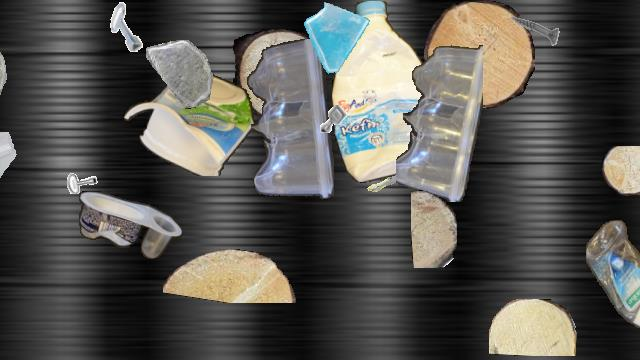glass: (300, 1, 374, 75), (146, 40, 214, 108), (0, 132, 22, 214), (0, 41, 8, 97)
metal: (350, 152, 408, 210), (502, 1, 560, 59), (102, 1, 154, 53), (57, 149, 101, 193), (312, 98, 354, 140)
plastic: (332, 1, 434, 183), (244, 39, 334, 203), (124, 70, 254, 176), (396, 41, 482, 201), (79, 191, 181, 259), (586, 220, 640, 332)
wood: (424, 1, 534, 109), (230, 29, 326, 119), (163, 249, 299, 303), (489, 299, 577, 355), (411, 190, 457, 268), (602, 146, 640, 198)
